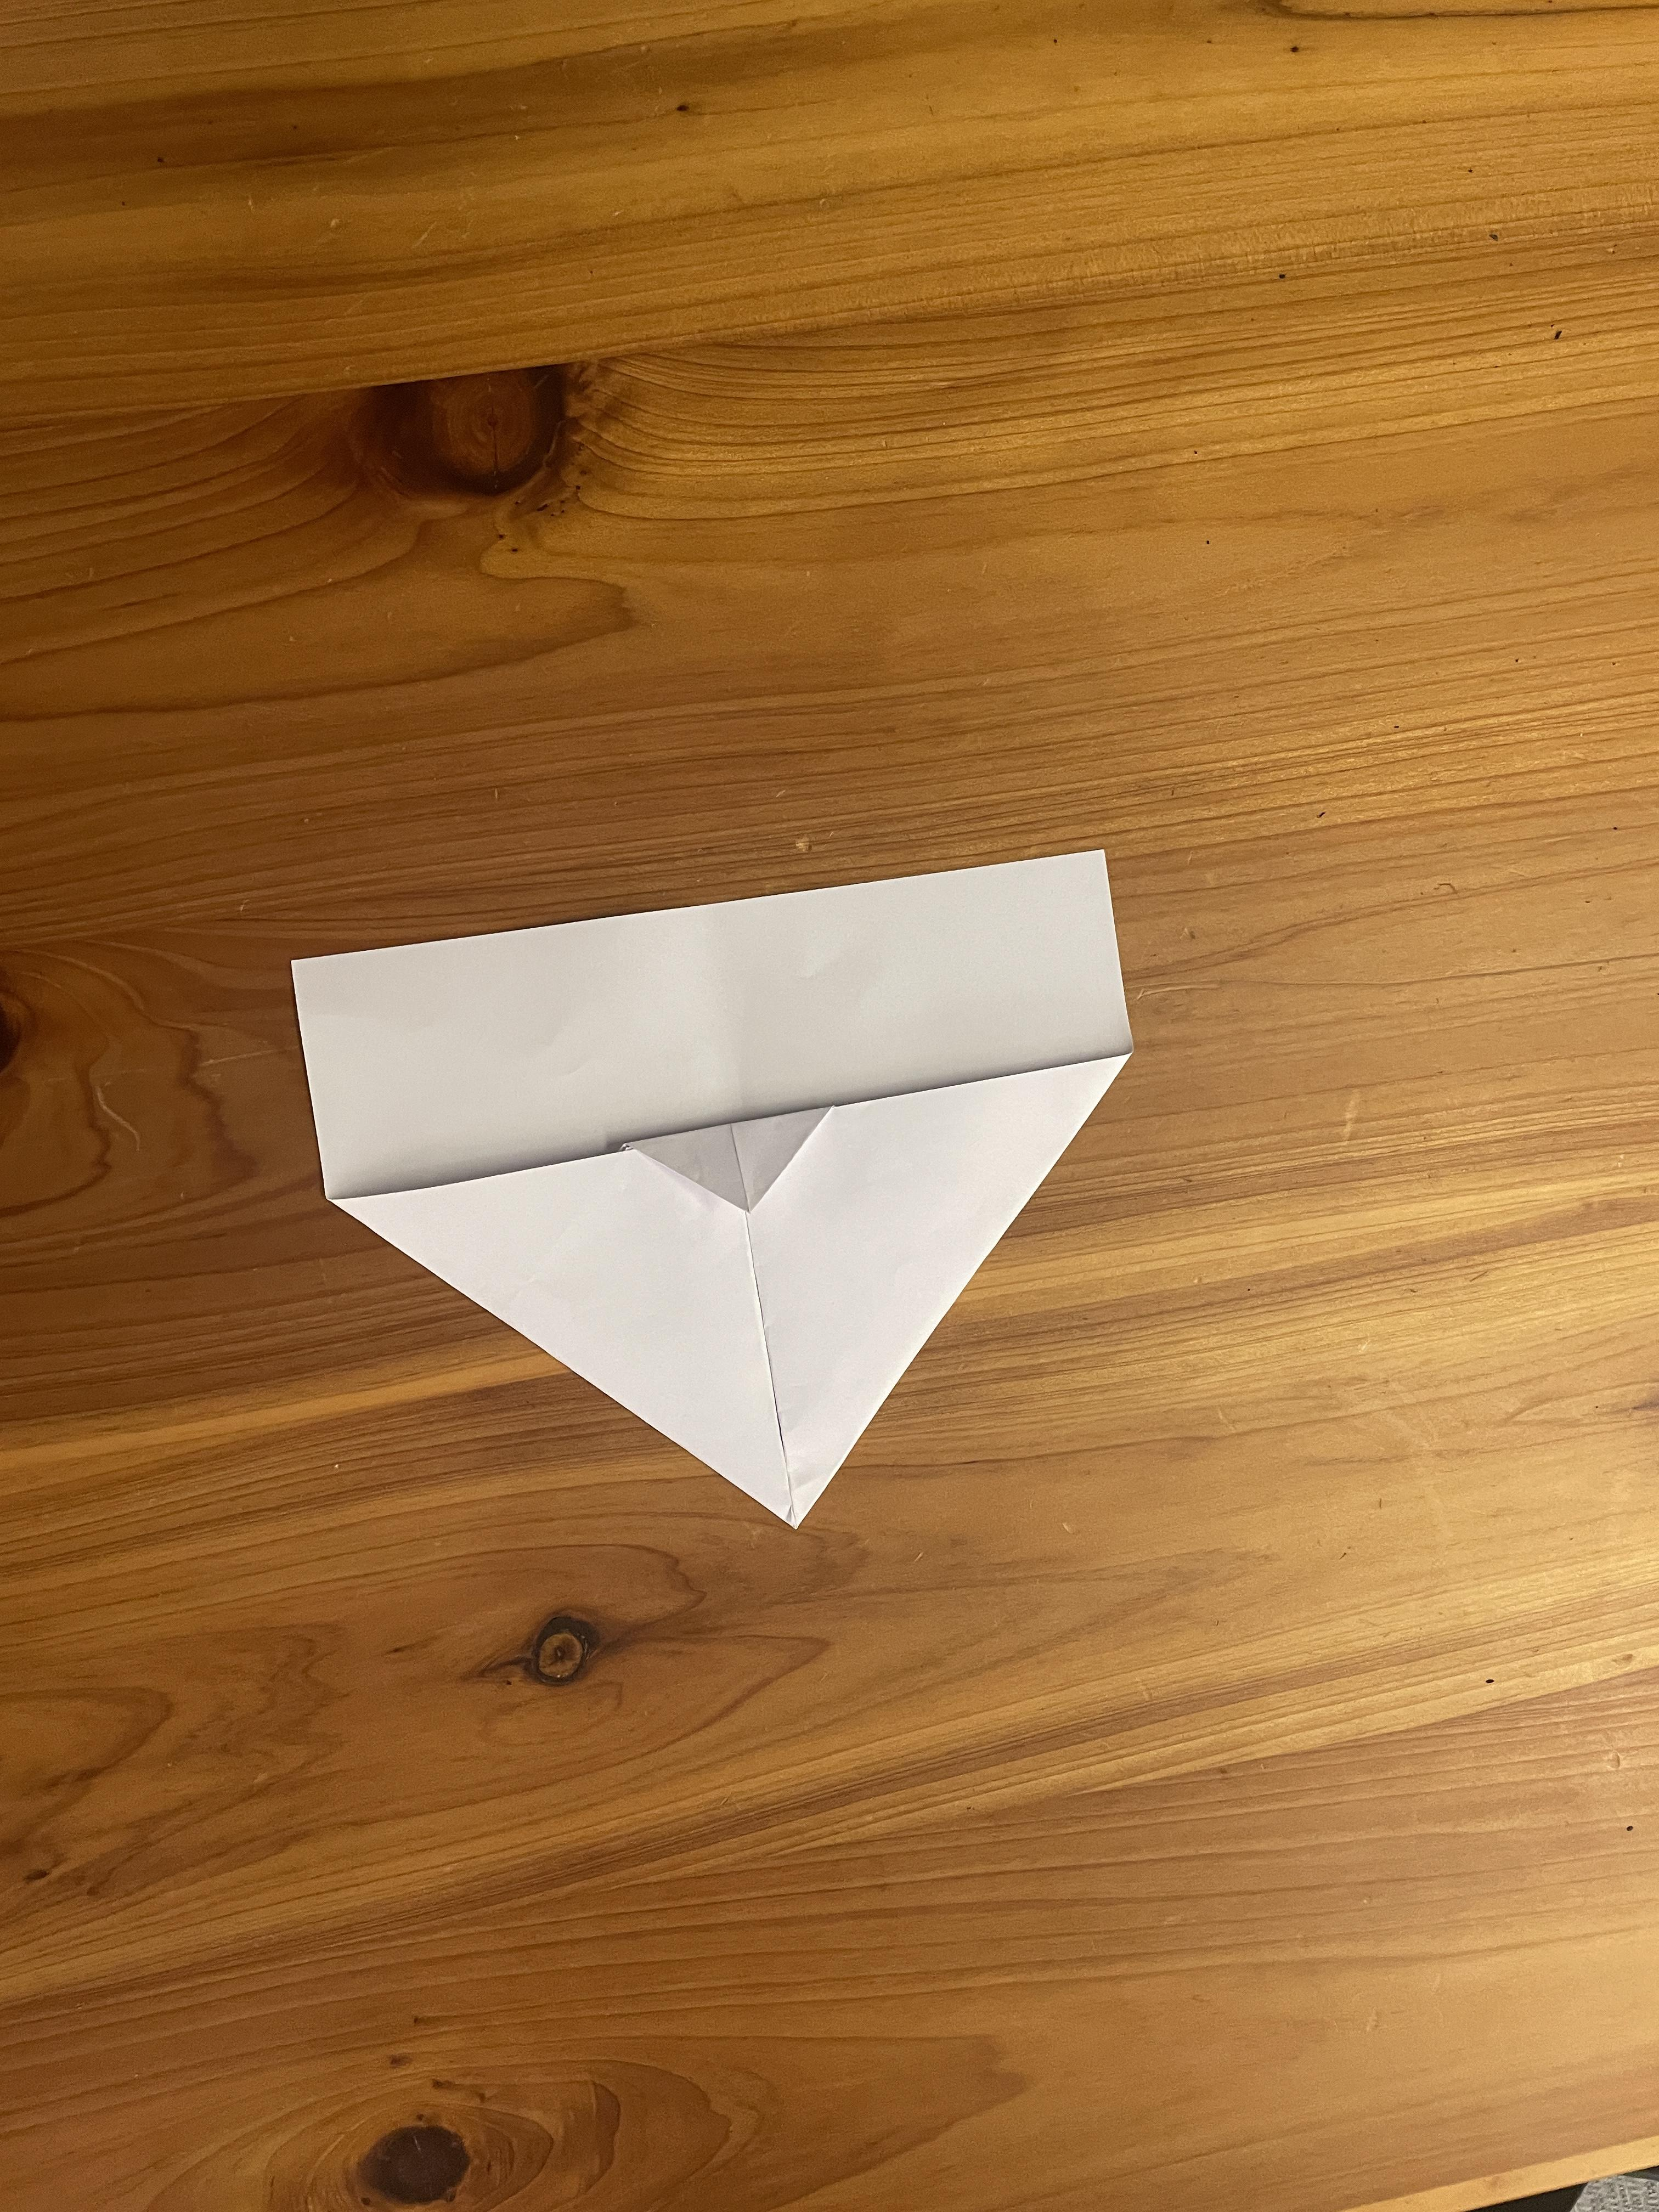shape_2: (148, 719, 1307, 1665)
